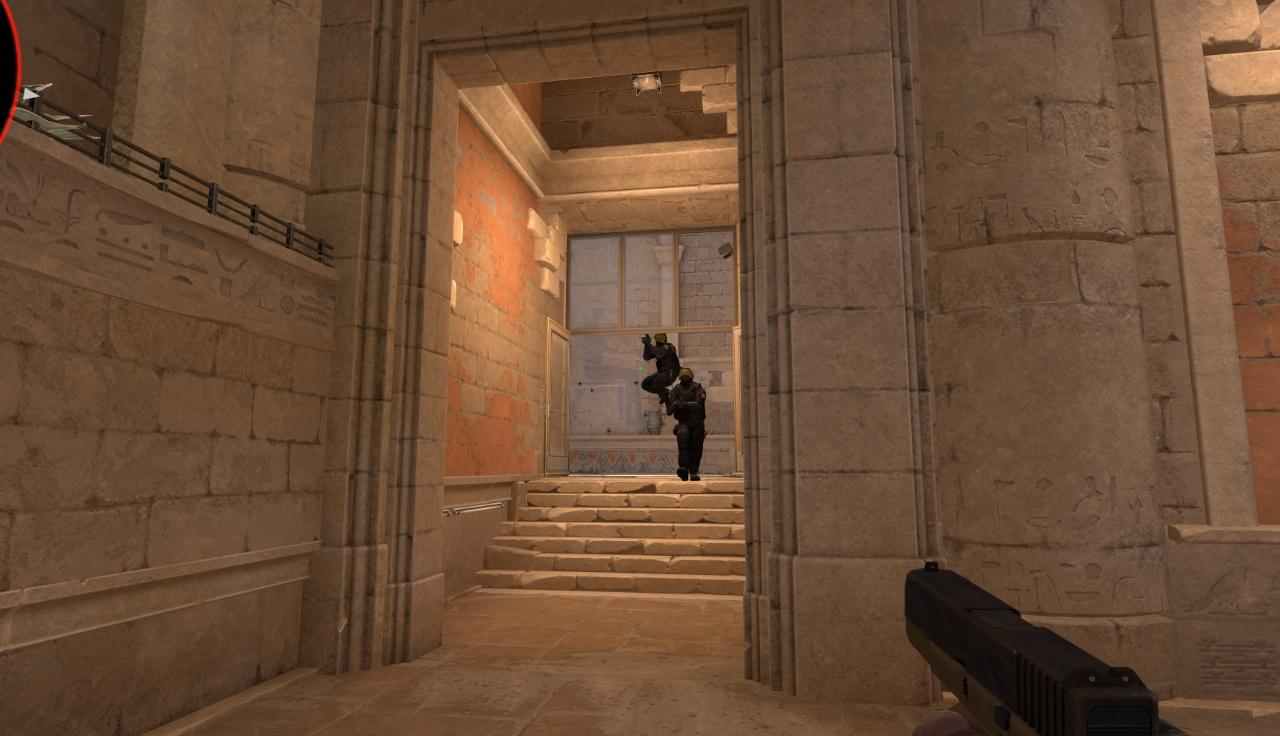ct: (669, 369, 705, 481), (643, 335, 677, 385)
cthead: (678, 369, 693, 386), (654, 334, 667, 346)
pistol: (901, 564, 1170, 736)
